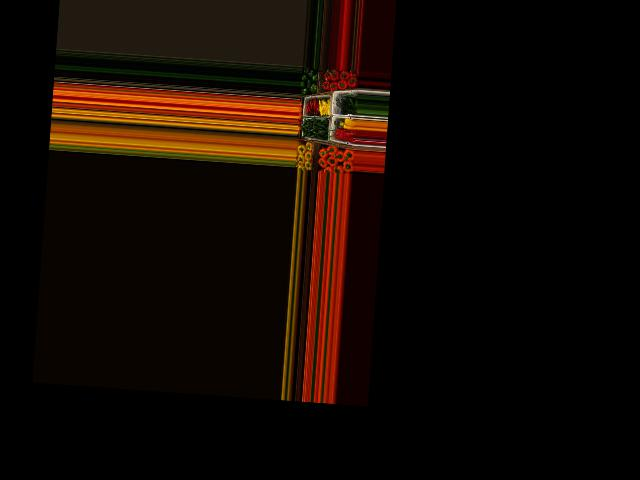bell_pepper: (308, 72, 320, 83)
